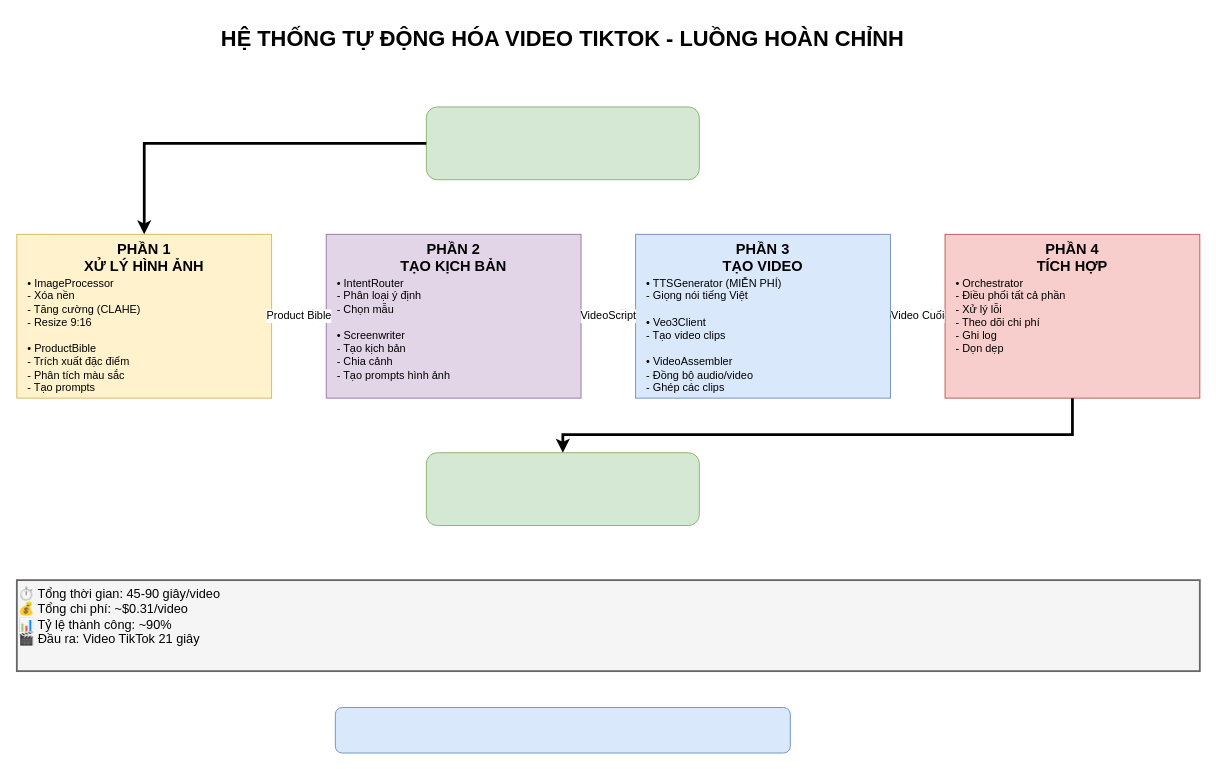
Some shapes in this 1216 by 769 pixel diagram are drawn without their labels. Each missing label, with the centre of its shape:
"ĐẦU RA Video TikTok (1080x1920, MP4)" goes at point (562, 489).
"ĐẦU VÀO Ảnh Sản Phẩm + Tên + Yêu Cầu" goes at point (562, 143).
"📌 Click các tab bên dưới để xem luồng chi tiết từng phần ↓" goes at point (562, 730).
